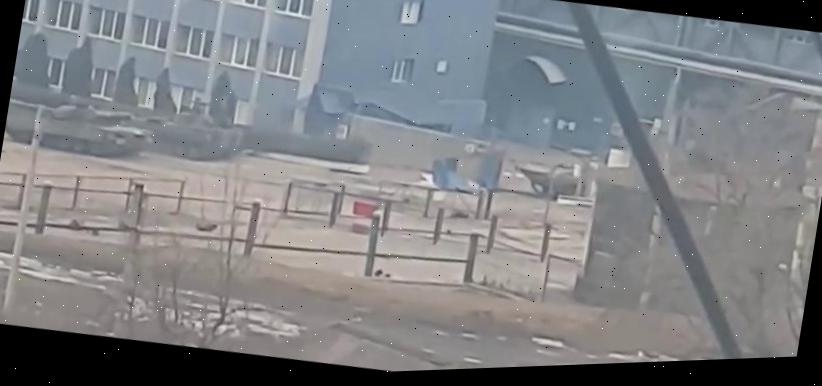tank: (2, 89, 156, 167), (106, 93, 243, 170), (508, 141, 594, 211)
